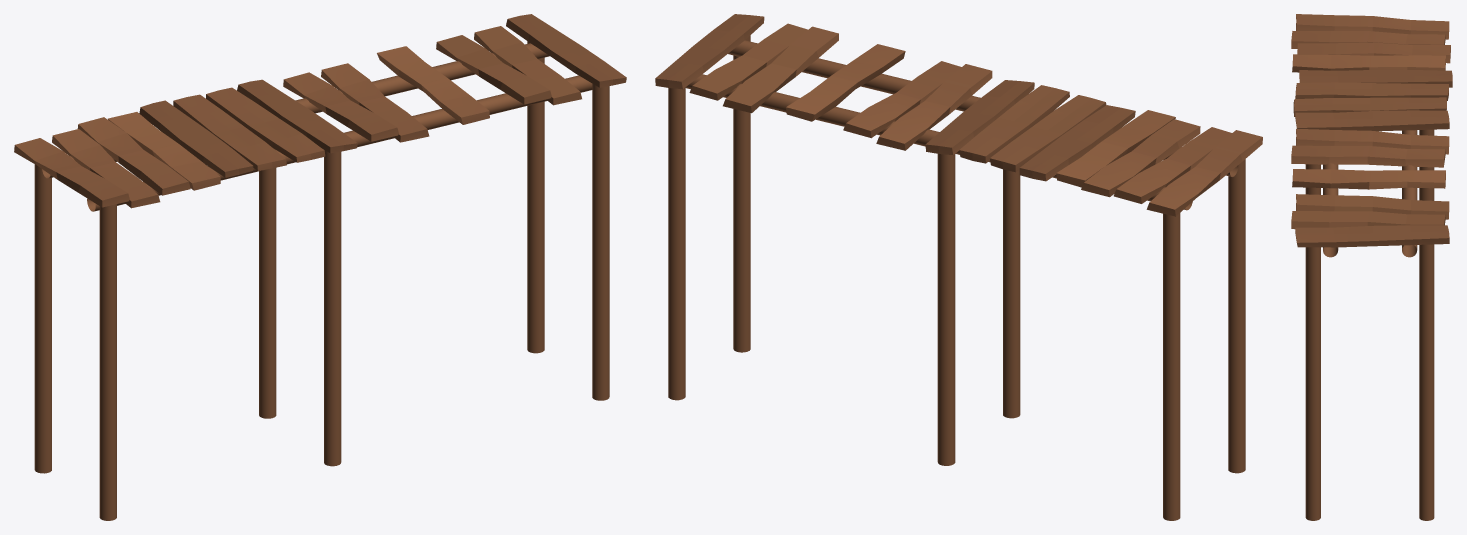
Rendered from SM_Pier.fbx.
3 renders of one model, left to right at view 1: azimuth 30°, elevation 25°; view 2: azimuth 150°, elevation 25°; view 3: azimuth 270°, elevation 25°, orthographic. The views are drawn at different scales.
Visible parts, largest first — view 1: SM_Pier; view 2: SM_Pier; view 3: SM_Pier.
Part boxes in pixels (x1=…): SM_Pier: x1=14, y1=14, x2=626, y2=520; SM_Pier: x1=655, y1=14, x2=1262, y2=520; SM_Pier: x1=1291, y1=14, x2=1452, y2=520.
Bounding box in the file's own units: 6.97 × 2.11 × 4.15.
